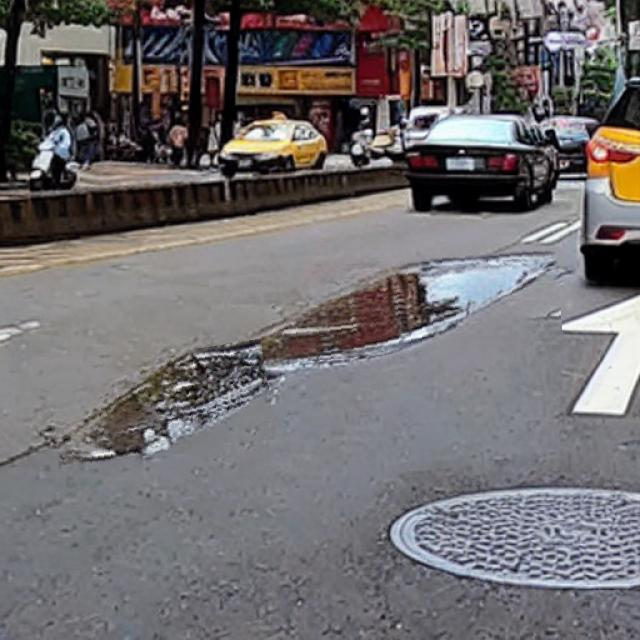puddle: (212, 256, 562, 363), (50, 348, 273, 462)
